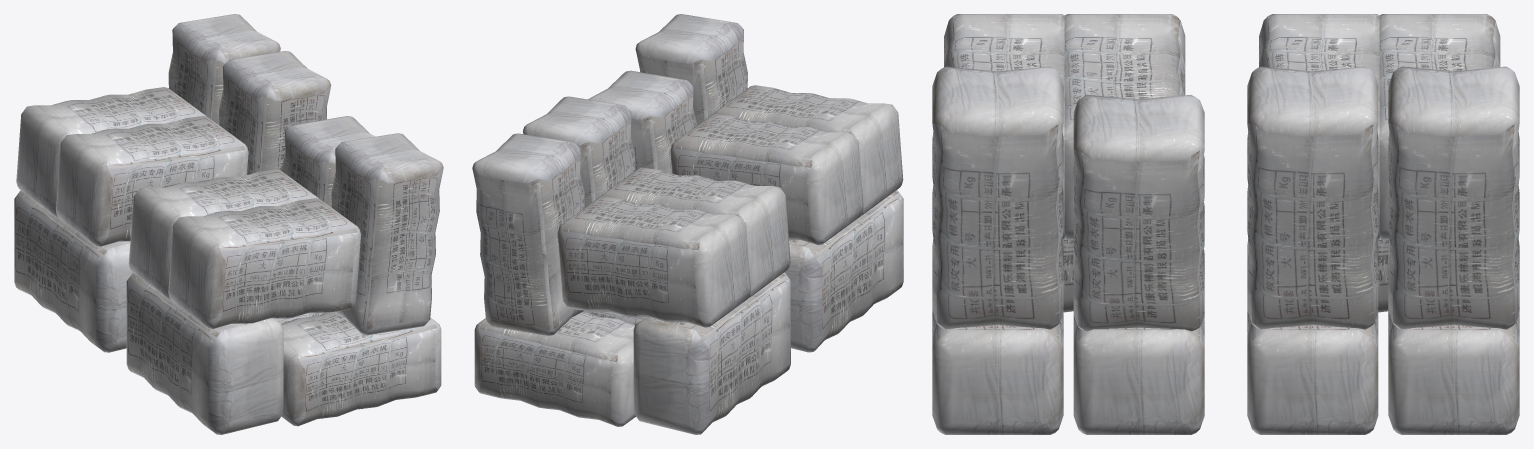
Rendered from mianyiku.FBX.
3 renders of one model, left to right at view 1: azimuth 30°, elevation 25°; view 2: azimuth 150°, elevation 25°; view 3: azimuth 270°, elevation 25°, orthographic. The views are drawn at different scales.
Visible parts, largest first — view 1: Box7597, Box7600, Box7596, Box7590, Box7595, Box7589, Box7592, Box7585, Box7598, Box7586, Box7593; view 2: Box7585, Box7586, Box7589, Box7598, Box7587, Box7596, Box7590, Box7597, Box7600, Box7592, Box7593; view 3: Box7600, Box7586, Box7592, Box7593, Box7595, Box7587, Box7588, Box7594, Box7598, Box7585, Box7590, Box7597 (+2 smaller).
Part boxes in pixels (<box>): Box7597: <box>168,198,360,328</box>; Box7600: <box>331,133,443,335</box>; Box7596: <box>126,273,283,434</box>; Box7590: <box>56,115,248,246</box>; Box7595: <box>281,312,441,426</box>; Box7589: <box>14,190,133,352</box>; Box7592: <box>219,51,331,174</box>; Box7585: <box>16,87,206,216</box>; Box7598: <box>128,169,318,298</box>; Box7586: <box>168,14,280,124</box>; Box7593: <box>281,116,375,207</box>; Box7585: <box>557,196,750,327</box>; Box7586: <box>472,133,584,335</box>; Box7589: <box>633,272,790,434</box>; Box7598: <box>670,114,863,245</box>; Box7587: <box>474,311,635,426</box>; Box7596: <box>784,190,903,352</box>; Box7590: <box>600,167,790,297</box>; Box7597: <box>712,85,903,215</box>; Box7600: <box>635,14,747,124</box>; Box7592: <box>523,96,635,207</box>; Box7593: <box>588,70,697,173</box>; Box7600: <box>932,66,1063,329</box>; Box7586: <box>1388,66,1519,329</box>; Box7592: <box>1247,66,1378,329</box>; Box7593: <box>1073,94,1204,331</box>; Box7595: <box>932,311,1063,434</box>; Box7587: <box>1388,311,1519,434</box>; Box7588: <box>1247,311,1378,434</box>; Box7594: <box>1073,315,1204,434</box>; Box7598: <box>1064,14,1185,239</box>; Box7585: <box>1379,14,1500,239</box>; Box7590: <box>1259,14,1379,238</box>; Box7597: <box>944,14,1064,238</box>.
Size of the model in its own units: 0.9876 by 1.52 by 0.9584.
